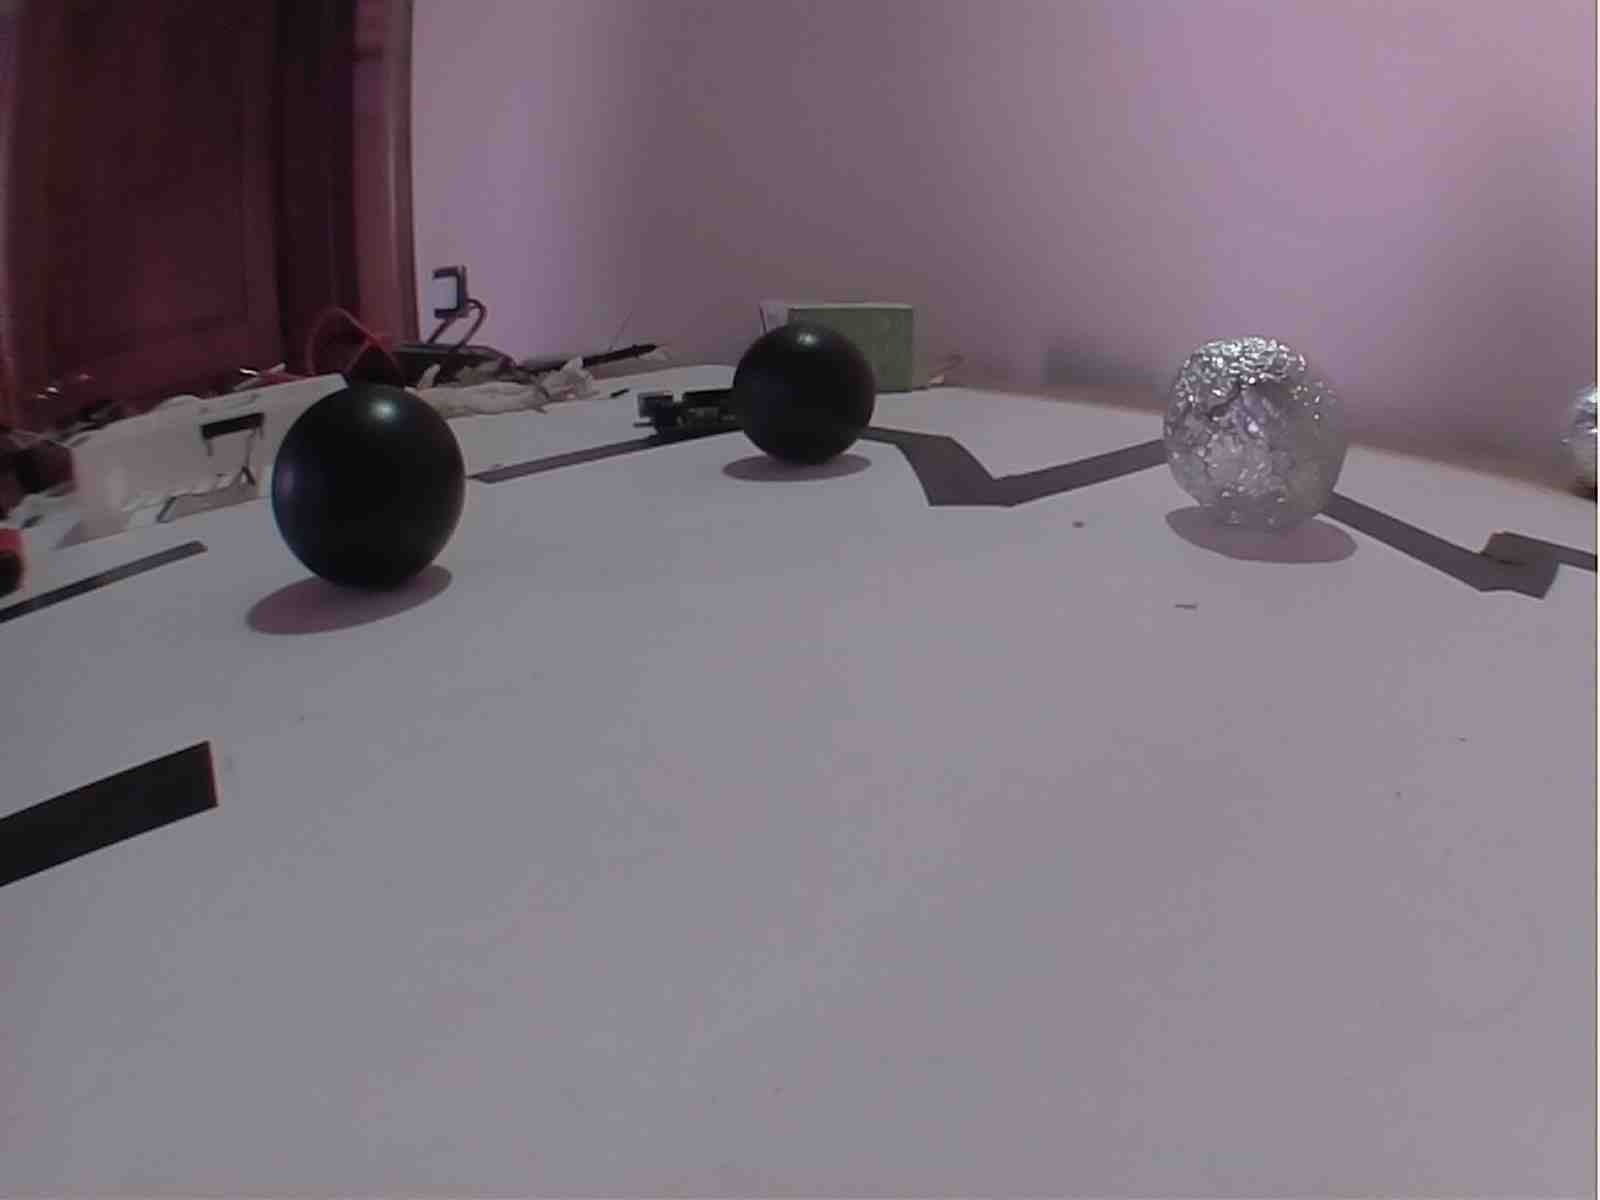bianca: (1151, 328, 1367, 536), (1547, 367, 1600, 505)
nera: (266, 383, 470, 597), (724, 318, 879, 476)
